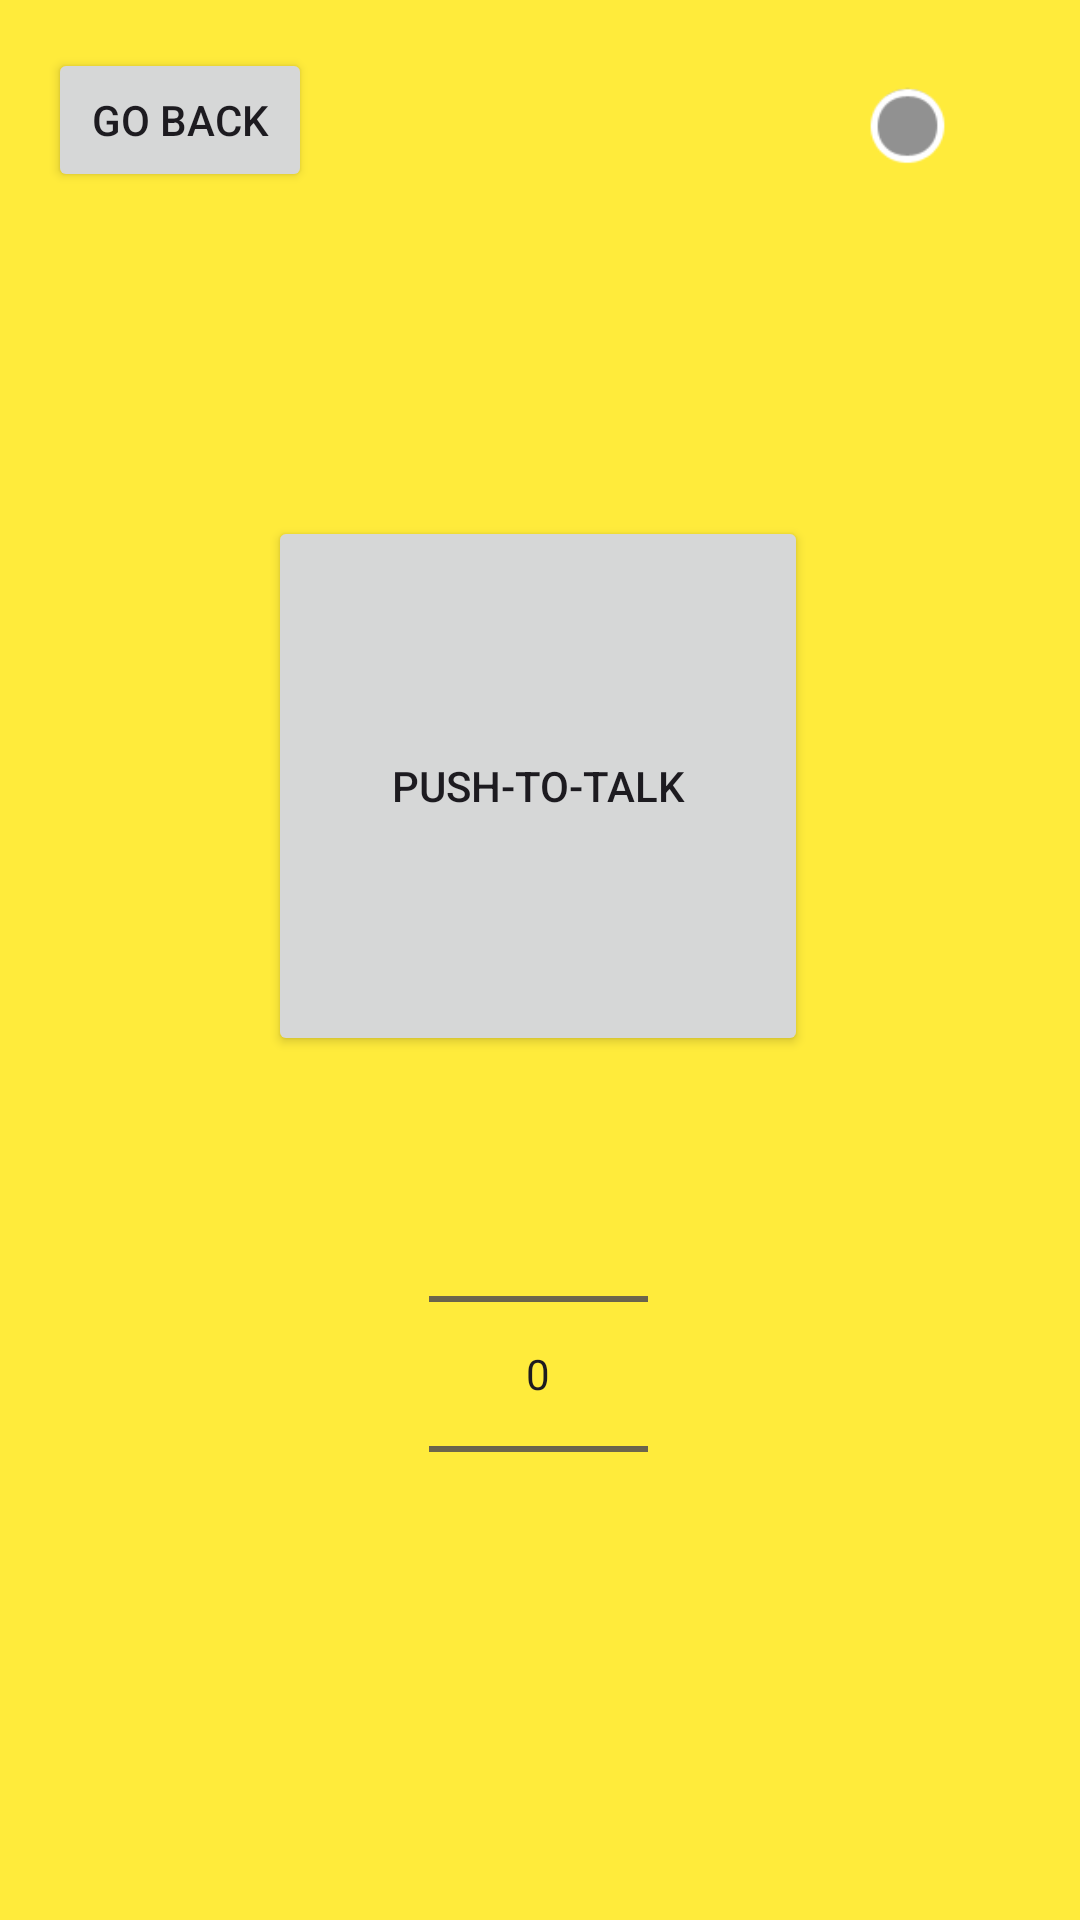

Named icons in this screenshot (1080*1920) and their bounding boxes, [left=x1, top=y1, right=x2, bottom=y2]:
presence invisible: [left=870, top=88, right=945, bottom=163]
